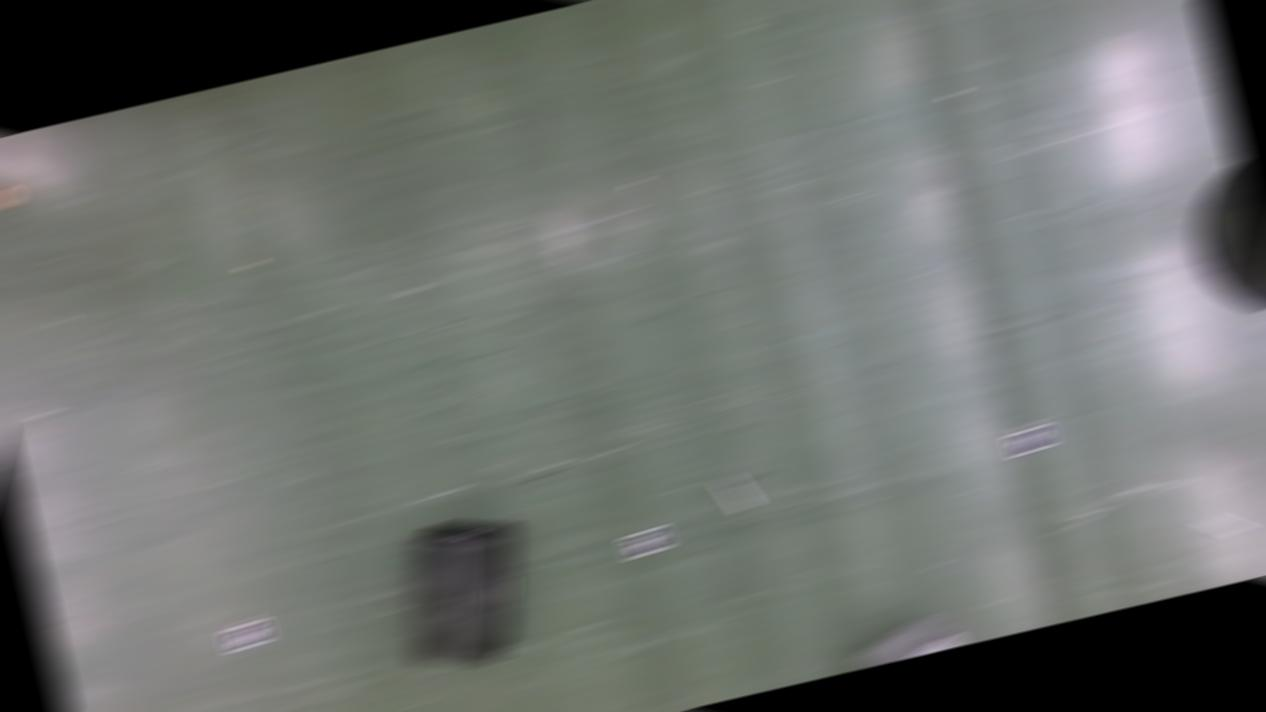probes: (1197, 508, 1245, 538), (719, 472, 755, 510)
rako: (380, 504, 544, 678)
